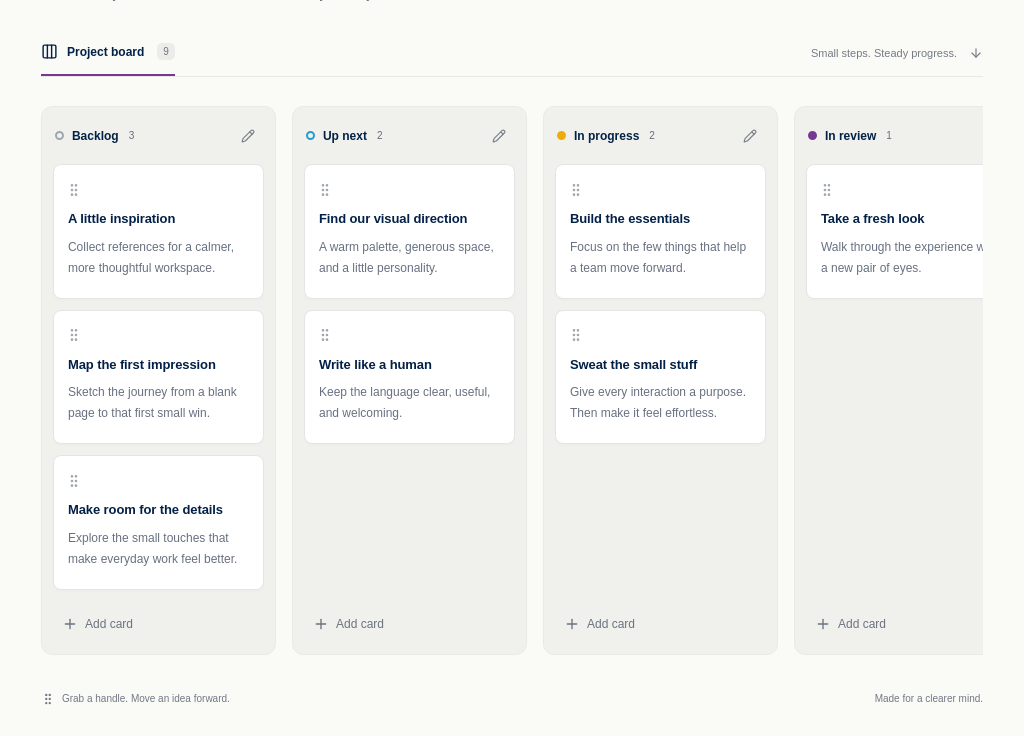
board interactions › validates a blank title and adds a card with details to its selected column
(page scrolled)
Click the button "Add card" below "Write like a human".
click(410, 624)  # box [304,605,515,643]
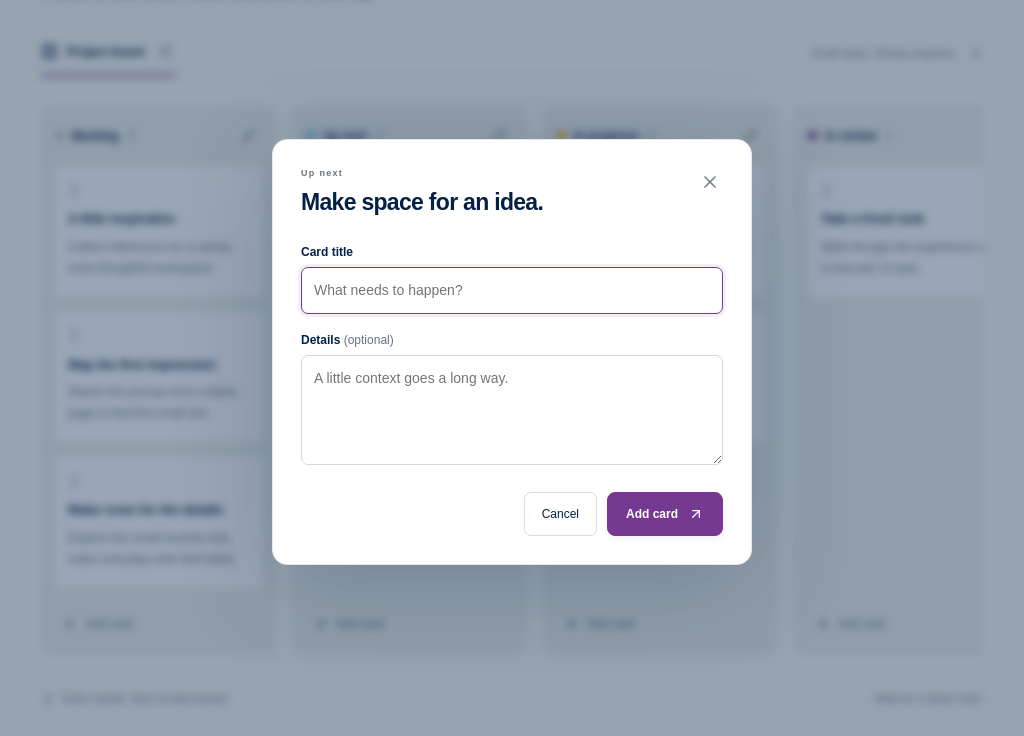
Click the button "Add card".
click(665, 514)  # box [607,492,723,536]
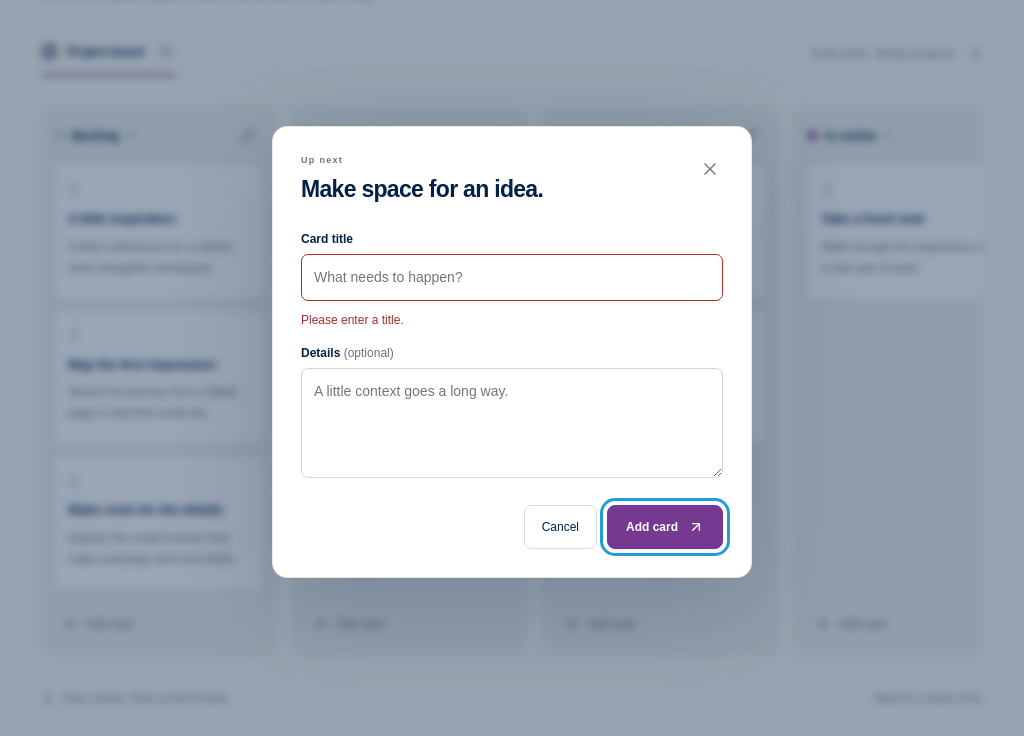
Result: the message reads "Please enter a title." at [301,313,404,327]
Type "New task" into the field labelled "Card title".
click(512, 277); type("New task")  # box [301,254,723,301]
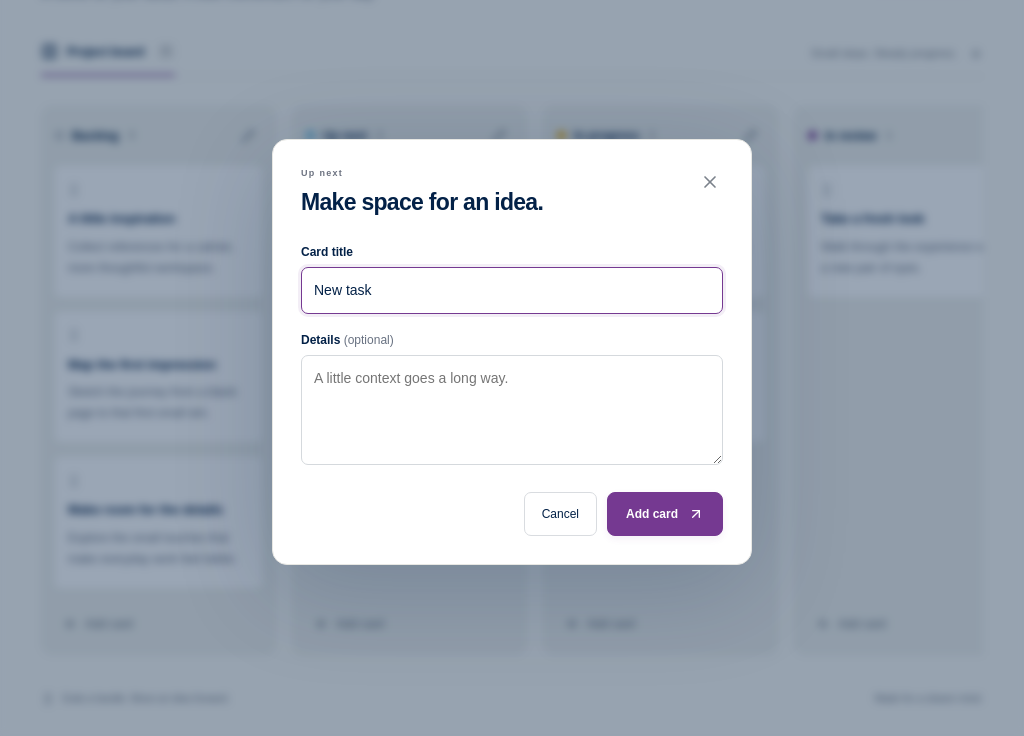
Type "Useful context" into the text box labelled "Details (optional)".
click(512, 410); type("Useful context")  # box [301,355,723,465]
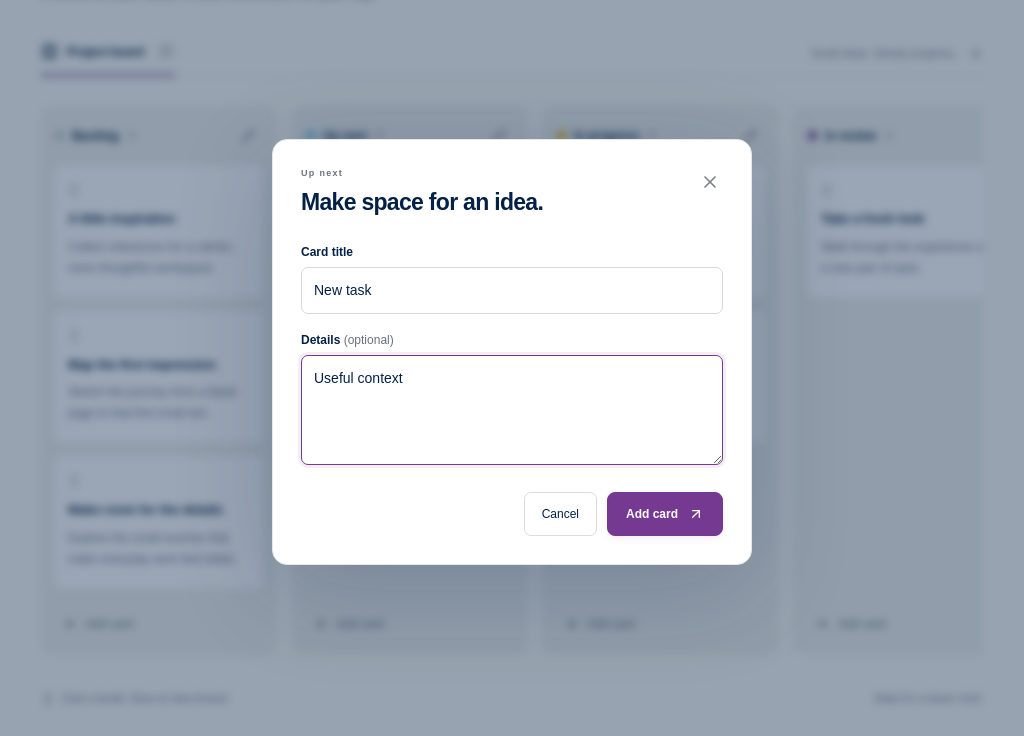
Click the button "Add card".
click(665, 514)  # box [607,492,723,536]
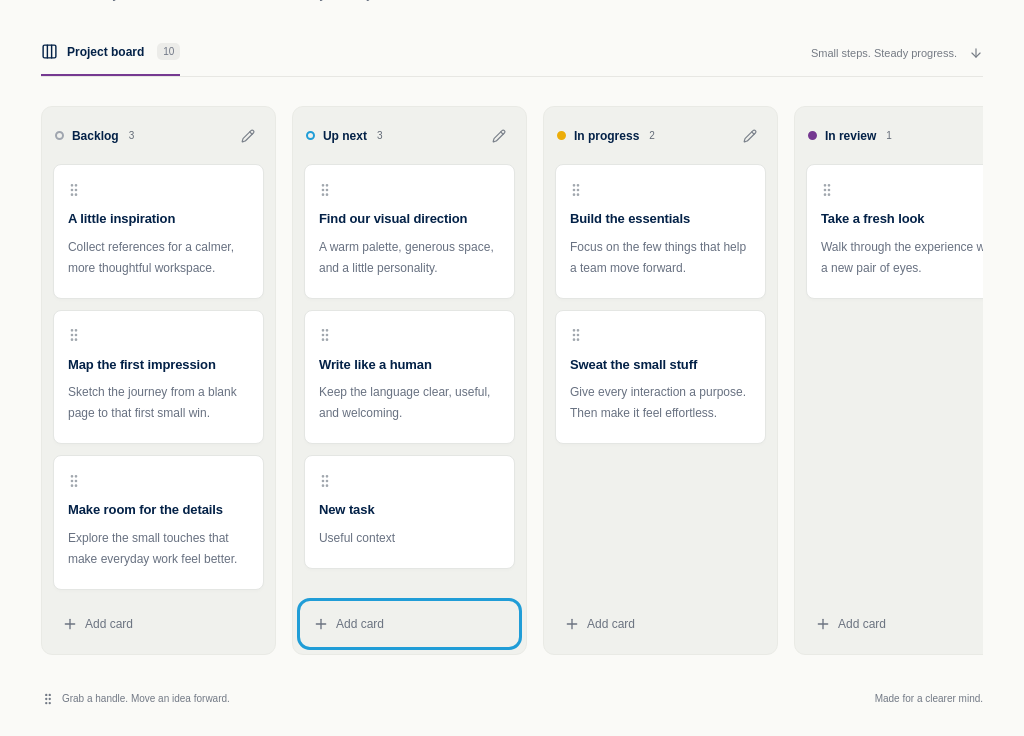
Result: the heading "New task" is shown at [319,502,375,517]
Result: the text "Useful context" is shown at [319,531,395,545]
Result: the dialog is gone
